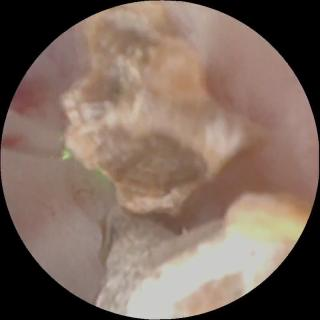stone: (57, 3, 263, 213)
